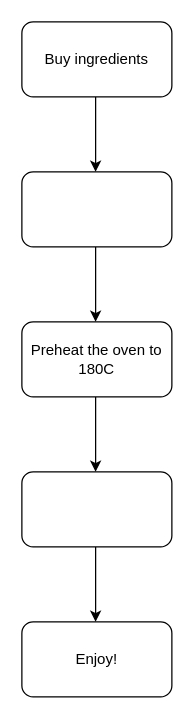
Some shapes in this 194 by 719 pixel diagram are drawn without their labels. The shapes that lost their labels are listed below. From the top down, each one's centre as x and y in pixels, then its label:
point 96,209: Mix all ingredients together in baking tray
point 96,509: Put the baking tray into the oven
